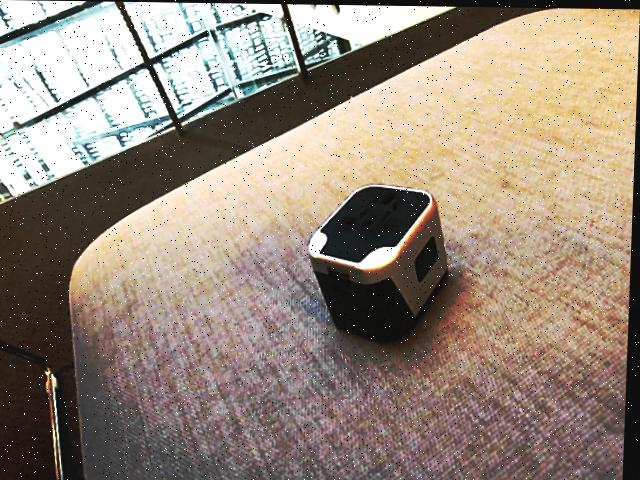adapter: (306, 181, 453, 342)
